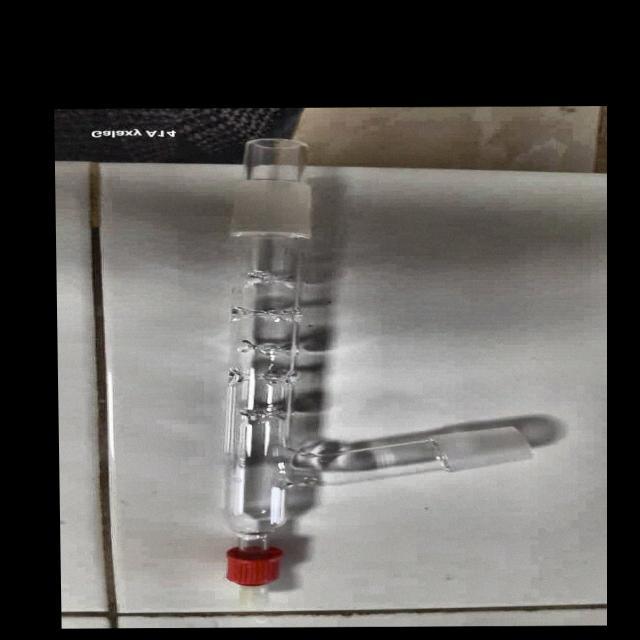Atmospherical Fractional Distillation: (188, 136, 556, 596)
